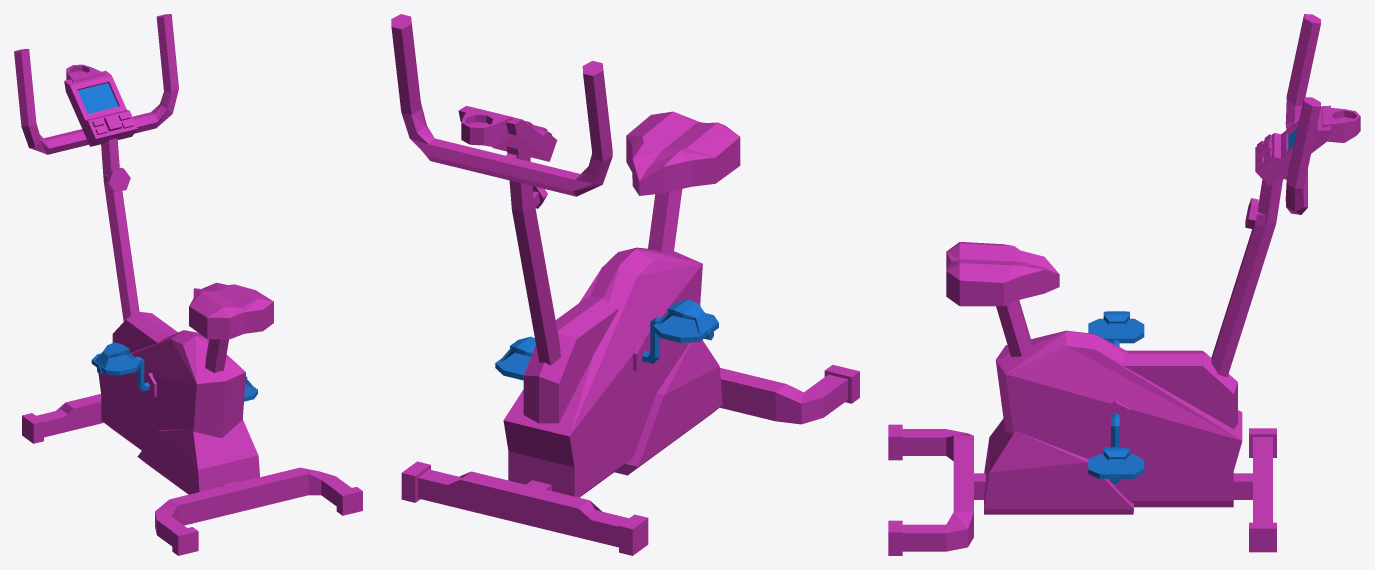
The model's file is SM_exercise_bike.fbx.
3 views of the same model, side by side, from view 1: azimuth 30°, elevation 25°; view 2: azimuth 150°, elevation 25°; view 3: azimuth 270°, elevation 25° (orthographic). The views are drawn at different scales.
Parts seen in each view (by area): view 1: exercise_bike, Cube_1; view 2: exercise_bike, Cube_1, Cube_4; view 3: exercise_bike, Cube_4, Cube_1.
Part boxes in pixels (left/top/right/bottom): exercise_bike: left=14, top=14, right=362, bottom=555; Cube_1: left=91, top=342, right=140, bottom=375; exercise_bike: left=391, top=14, right=859, bottom=555; Cube_1: left=653, top=299, right=718, bottom=342; Cube_4: left=495, top=336, right=535, bottom=380; exercise_bike: left=888, top=14, right=1360, bottom=555; Cube_4: left=1088, top=447, right=1144, bottom=478; Cube_1: left=1088, top=311, right=1144, bottom=343.
Bounding box in the file's own units: 63.04 × 122 × 117.
